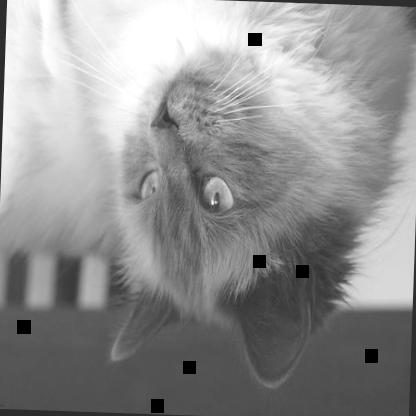cat: (0, 0, 412, 395)
